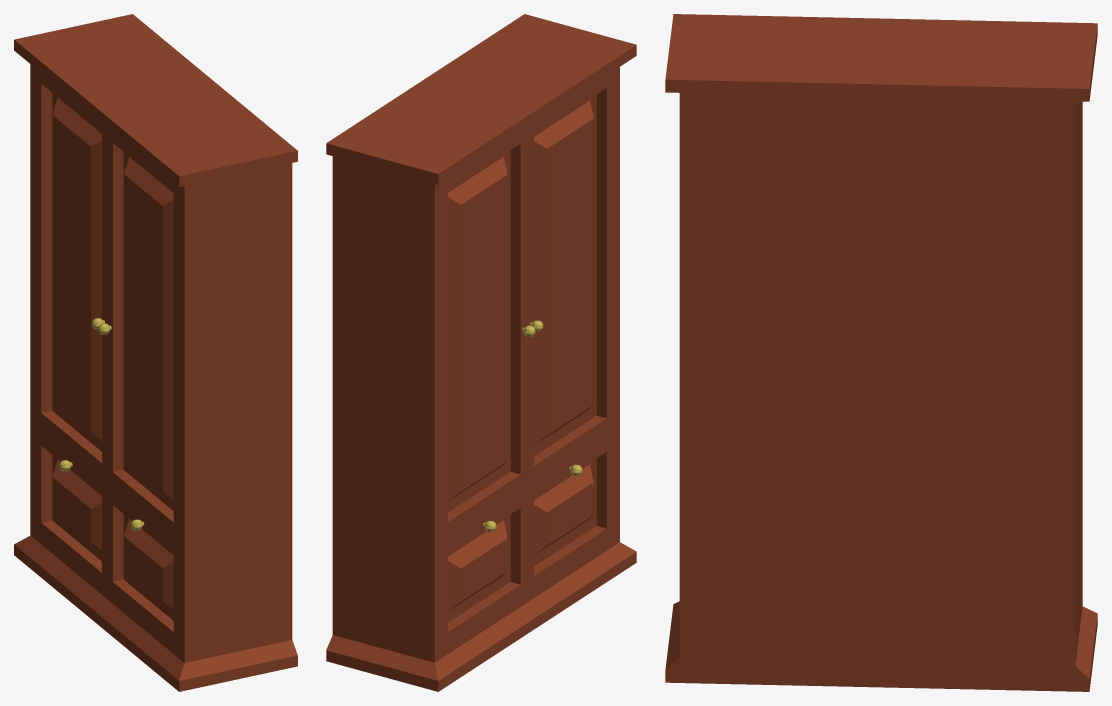
The model's file is Wardrobe.fbx.
3 views of the same model, side by side, from view 1: azimuth 30°, elevation 25°; view 2: azimuth 150°, elevation 25°; view 3: azimuth 270°, elevation 25° (orthographic). The views are drawn at different scales.
Visible parts, largest first — view 1: Wardrobe; view 2: Wardrobe; view 3: Wardrobe.
Boxes of the visible parts, box(x1,y1,x2,y2) form: Wardrobe: box(14, 14, 297, 691); Wardrobe: box(326, 14, 636, 691); Wardrobe: box(665, 14, 1097, 691).
Size of the model in its own units: 0.6267 by 2.35 by 1.53.
